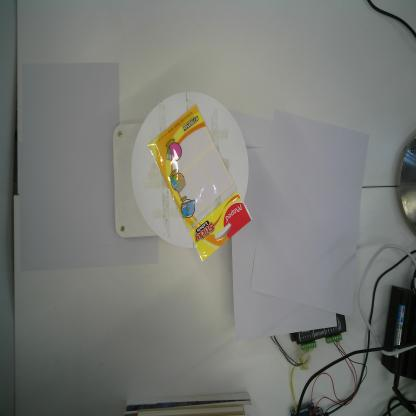Stationery: (145, 100, 253, 262)
